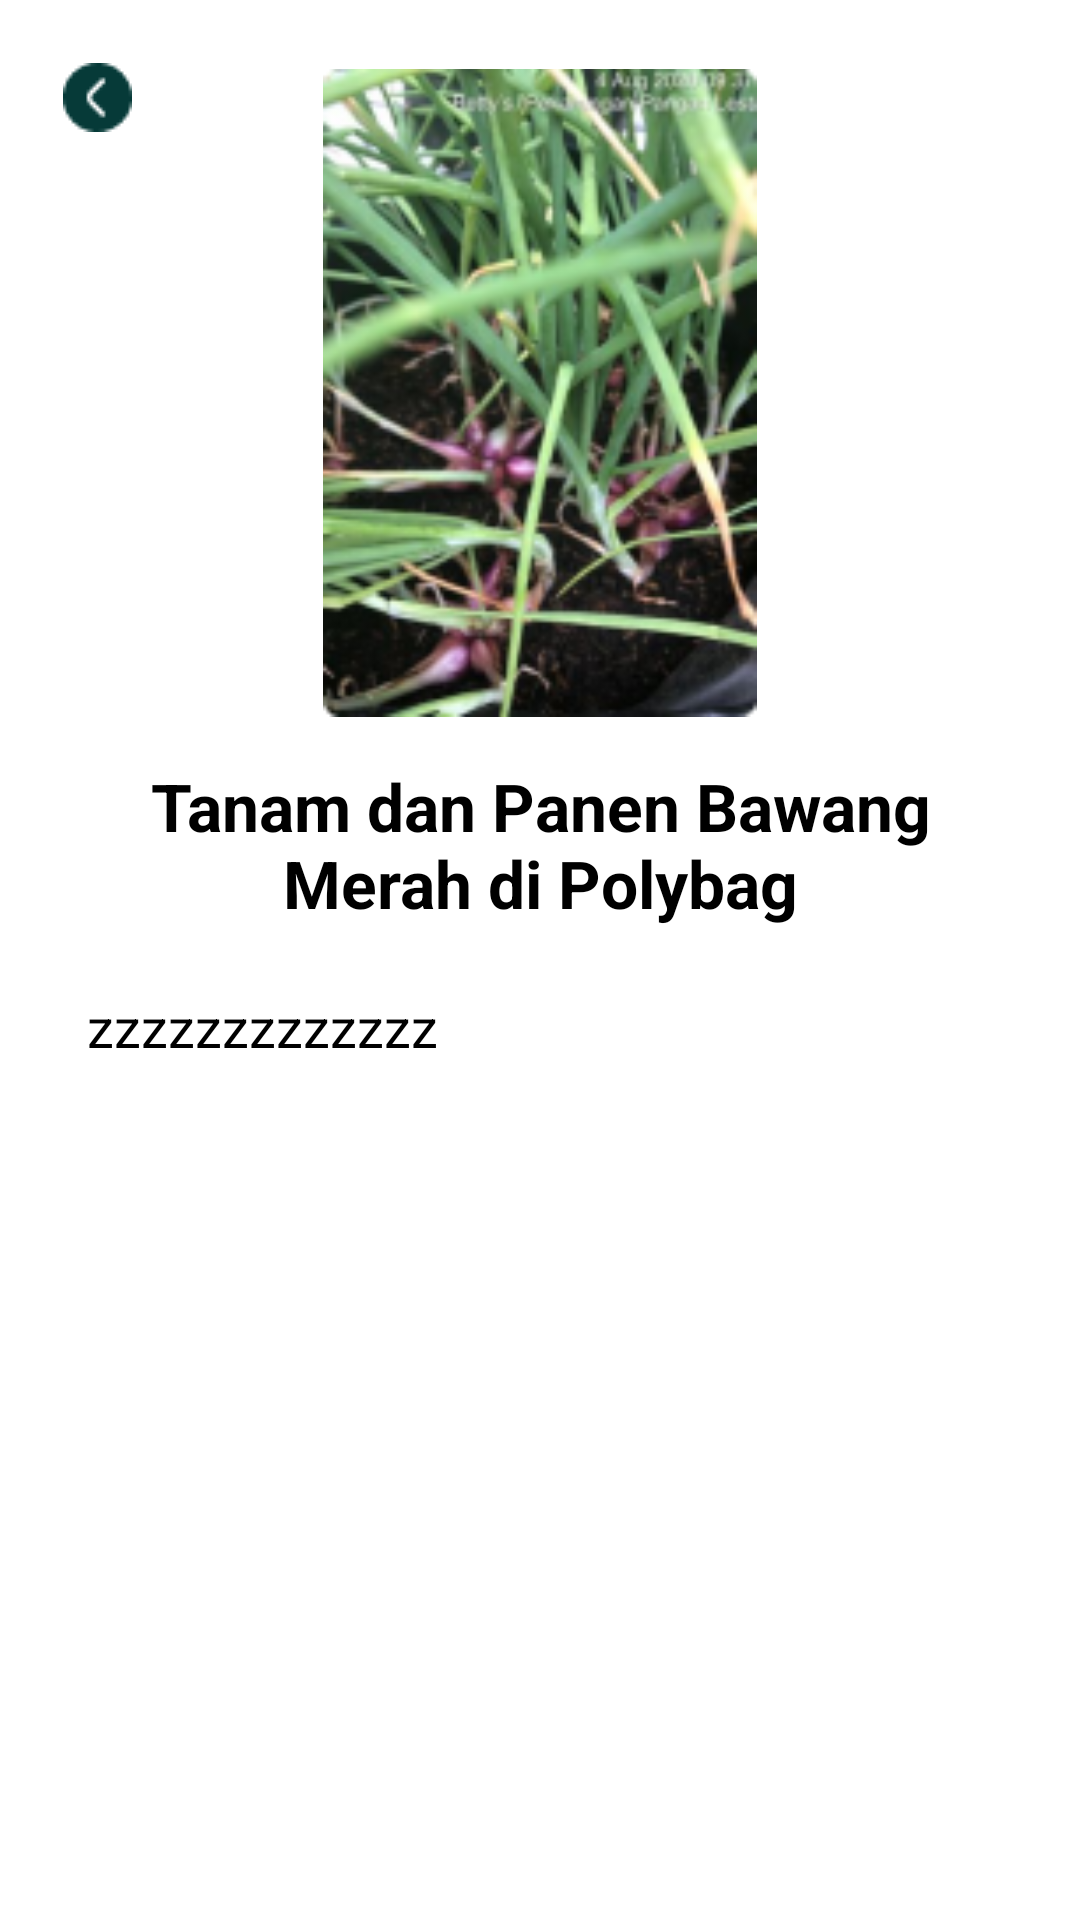

Where to tap for icons on this 1080 × 1920 app screen, as (x,y):
back: (97,97)
